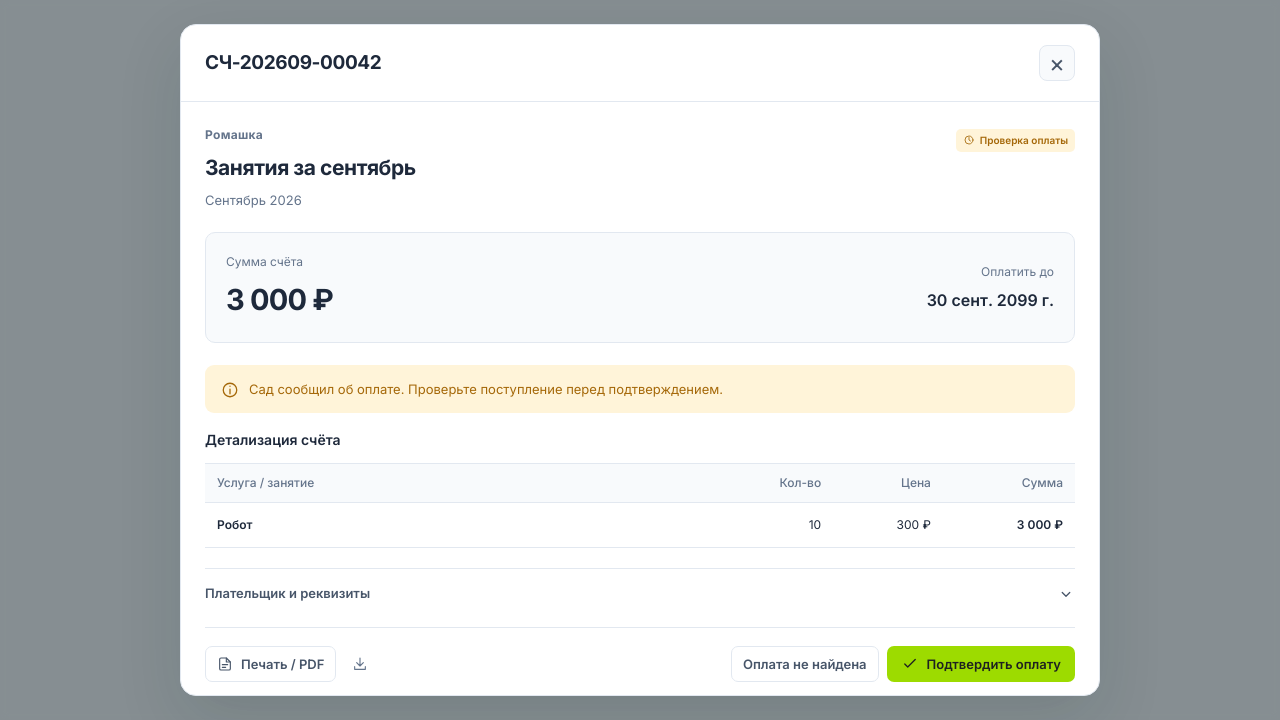
confirmed payment stays paid when the subsequent detail read cannot load
The width and height of the screenshot is (1280, 720).
Expected: the heading "Занятия за сентябрь" is shown, [205,152,416,184]
Click the button "Подтвердить оплату": (981, 664) [887,646,1075,682]
(page scrolled)
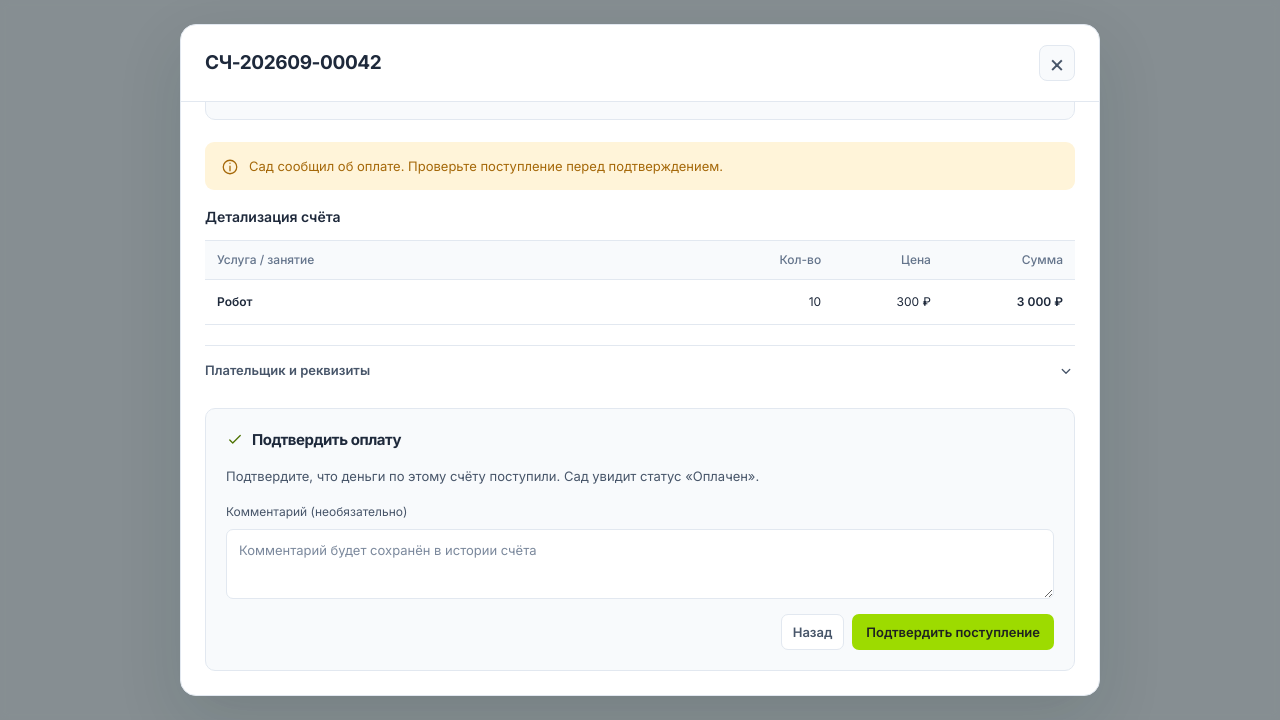
Click the button "Подтвердить поступление": (953, 632) [852,614,1054,650]
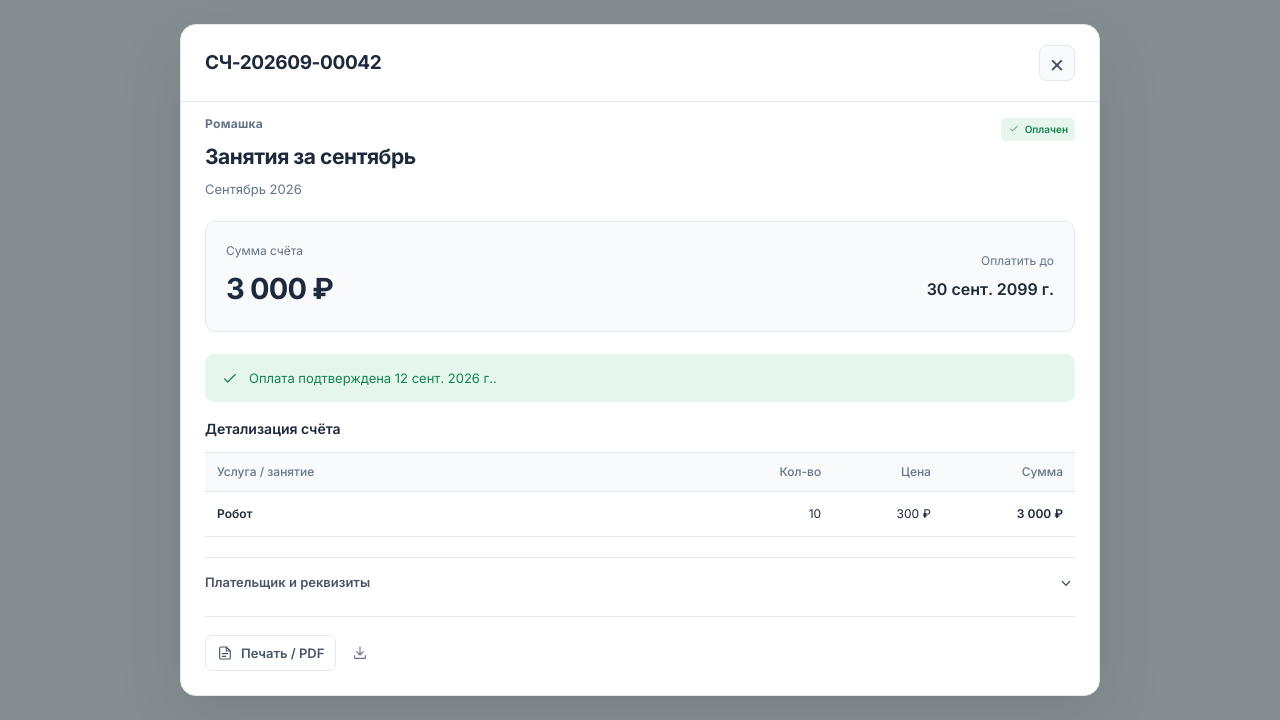
Expected: the button "Отменить счёт" is not shown
Result: the text "Оплачен" is shown at [1001,118,1075,140]
Result: the heading "Подтвердить оплату" is gone
